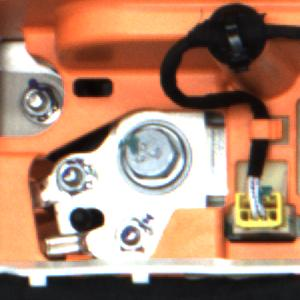nut_b: (118, 115, 195, 194)
screw_s: (113, 216, 157, 261), (18, 77, 55, 124), (54, 157, 89, 194)
